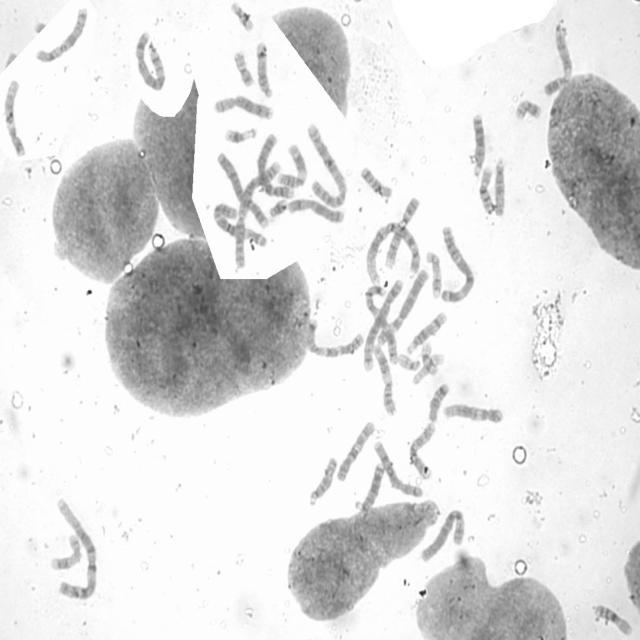A1: (52, 494, 100, 604), (364, 218, 423, 285)
A2: (231, 158, 282, 271), (304, 120, 347, 209)
A3: (439, 222, 476, 305), (210, 200, 268, 249)
B4: (213, 149, 270, 232), (254, 130, 297, 200)
B5: (361, 278, 404, 373), (133, 28, 167, 92)
C10: (334, 418, 376, 482), (407, 420, 437, 480)
C11: (371, 342, 398, 417), (275, 141, 309, 188)
C12: (1, 77, 26, 158), (441, 400, 504, 424)
C6: (374, 266, 430, 354), (418, 507, 466, 564)
C7: (364, 285, 398, 364), (302, 318, 364, 359)
C8: (372, 440, 423, 498), (212, 92, 274, 120)
C9: (383, 194, 421, 270), (540, 21, 574, 98)
D13: (357, 461, 385, 515), (469, 110, 487, 180)
D14: (404, 309, 448, 356), (254, 38, 275, 99)
D15: (307, 454, 338, 506), (492, 156, 507, 219)
E16: (590, 600, 634, 638), (477, 163, 496, 216)
E17: (49, 532, 82, 571), (424, 249, 443, 299)
E18: (358, 164, 393, 199), (426, 380, 451, 424)
F19: (410, 350, 444, 386), (419, 340, 441, 377)
F20: (232, 47, 256, 88), (513, 96, 543, 122)
G21: (222, 124, 257, 145), (267, 198, 288, 220)
G22: (228, 1, 256, 34), (396, 351, 421, 372)
X: (34, 5, 90, 63), (284, 196, 344, 224)
